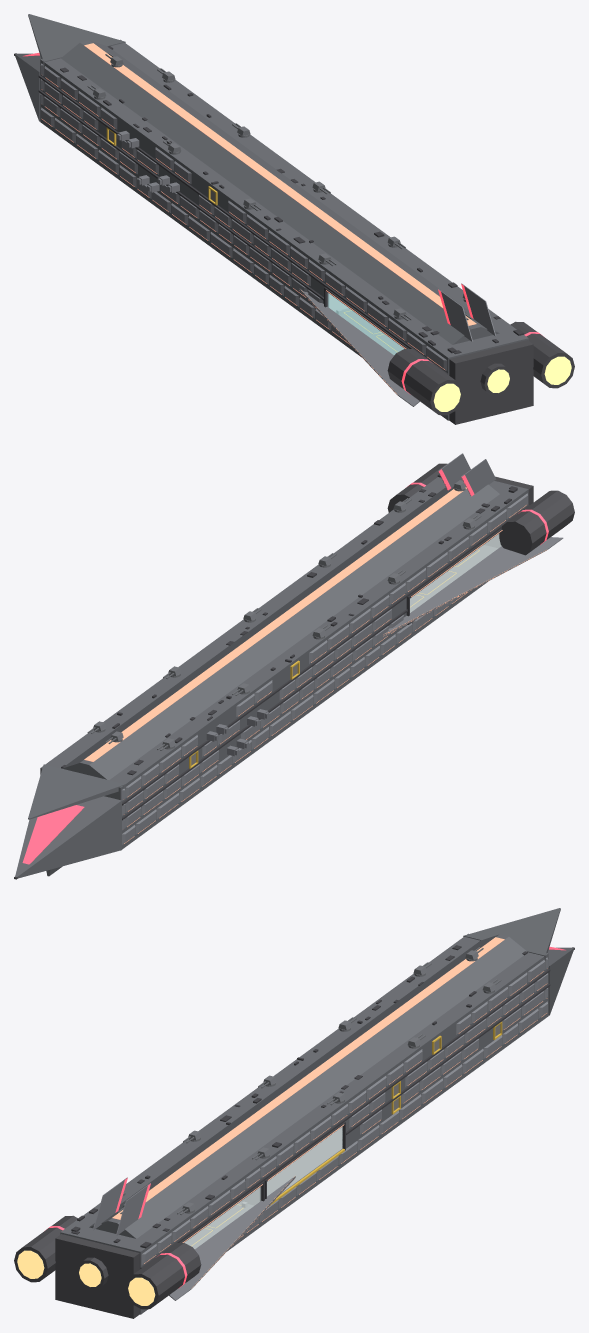
Rendered from ship_XL.glb.
3 views of the same model, one above another, from view 1: azimuth 30°, elevation 25°; view 2: azimuth 150°, elevation 25°; view 3: azimuth 330°, elevation 25° (orthographic).
Parts seen in each view (by area): view 1: XL_Hull-col, XL_Armor, XL_Engines, XL_Lights, XL_Trim, XL_EngineGlow, XL_HangarShield_Port, XL_Details, XL_Decks-col; view 2: XL_Hull-col, XL_Armor, XL_Lights, XL_Engines, XL_Trim, XL_Accent, XL_HangarShield_Port, XL_Decks-col, XL_Details; view 3: XL_Hull-col, XL_Armor, XL_Engines, XL_Lights, XL_Trim, XL_EngineGlow, XL_CargoBayShield, XL_CargoBayDoor-col, XL_HangarShield_Starboard, XL_Details, XL_Decks-col, XL_Hazard.
Part boxes in pixels (x1,y1,x2,y2): XL_Hull-col: [15, 14, 528, 420]; XL_Armor: [40, 63, 495, 406]; XL_Engines: [14, 53, 574, 424]; XL_Lights: [41, 43, 476, 394]; XL_Trim: [38, 75, 448, 374]; XL_EngineGlow: [433, 356, 571, 411]; XL_HangarShield_Port: [328, 293, 404, 354]; XL_Details: [60, 46, 524, 354]; XL_Decks-col: [335, 308, 404, 354]; XL_Hull-col: [15, 477, 528, 878]; XL_Armor: [121, 453, 563, 844]; XL_Lights: [84, 487, 546, 843]; XL_Engines: [14, 463, 574, 879]; XL_Trim: [122, 505, 529, 820]; XL_Accent: [22, 469, 548, 864]; XL_HangarShield_Port: [410, 534, 501, 612]; XL_Decks-col: [410, 545, 497, 612]; XL_Details: [61, 474, 517, 775]; XL_Hull-col: [60, 908, 573, 1314]; XL_Armor: [93, 957, 548, 1300]; XL_Engines: [14, 947, 574, 1318]; XL_Lights: [112, 937, 547, 1288]; XL_Trim: [140, 969, 550, 1268]; XL_EngineGlow: [17, 1250, 155, 1305]; XL_CargoBayShield: [267, 1127, 342, 1196]; XL_CargoBayDoor-col: [267, 1127, 341, 1196]; XL_HangarShield_Starboard: [184, 1187, 260, 1248]; XL_Details: [71, 945, 527, 1248]; XL_Decks-col: [184, 1202, 253, 1248]; XL_Hazard: [191, 1021, 502, 1246].
Bounding box in the file's own units: 42.61 × 29.45 × 240.
